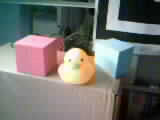duck: (55, 39, 93, 90)
